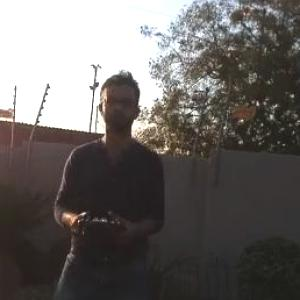follow: (43, 60, 178, 299)
